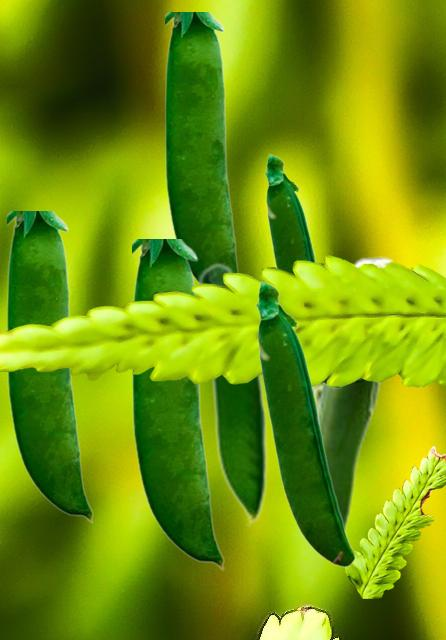pea: (132, 239, 223, 569), (255, 280, 354, 566), (7, 211, 92, 522), (312, 256, 398, 560), (165, 12, 238, 280), (196, 261, 267, 527), (264, 153, 330, 387)
